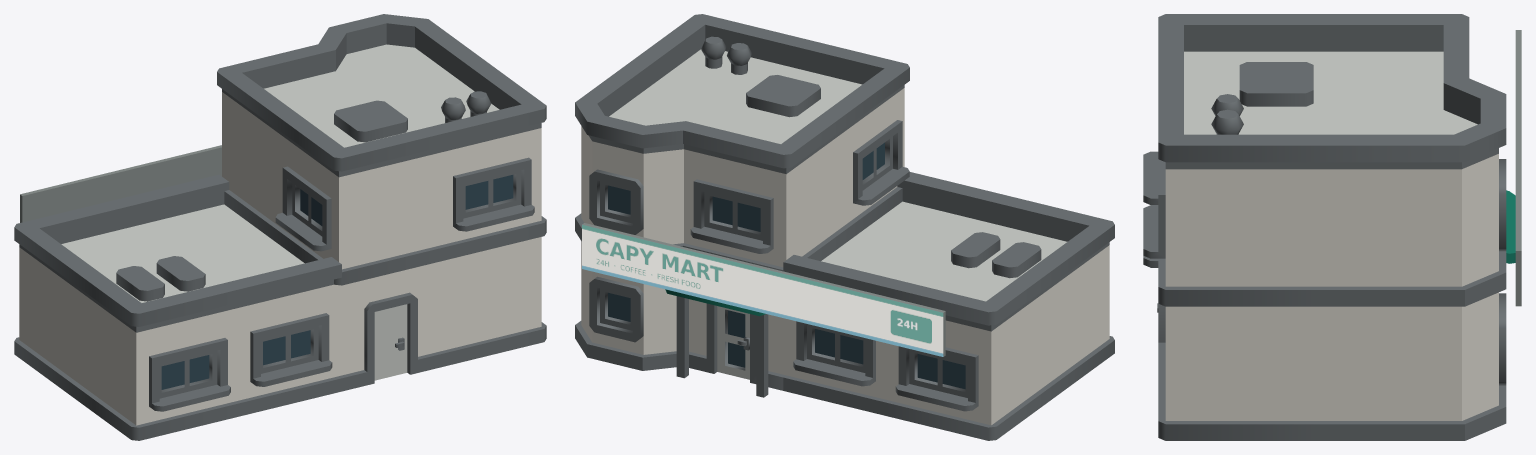
File: mart-metric.glb
3 views of the same model, side by side, from view 1: azimuth 30°, elevation 25°; view 2: azimuth 150°, elevation 25°; view 3: azimuth 270°, elevation 25° (orthographic). The views are drawn at different scales.
Parts seen in each view (by area): view 1: Complete closed mart exterior; view 2: Complete closed mart exterior; view 3: Complete closed mart exterior.
Boxes of the visible parts, bbox=[...] form: Complete closed mart exterior: bbox=[14, 14, 546, 440]; Complete closed mart exterior: bbox=[575, 14, 1114, 440]; Complete closed mart exterior: bbox=[1143, 14, 1521, 440].
Size of the model in its own units: 14 by 7.62 by 8.71.
7 materials, 1 textured.
